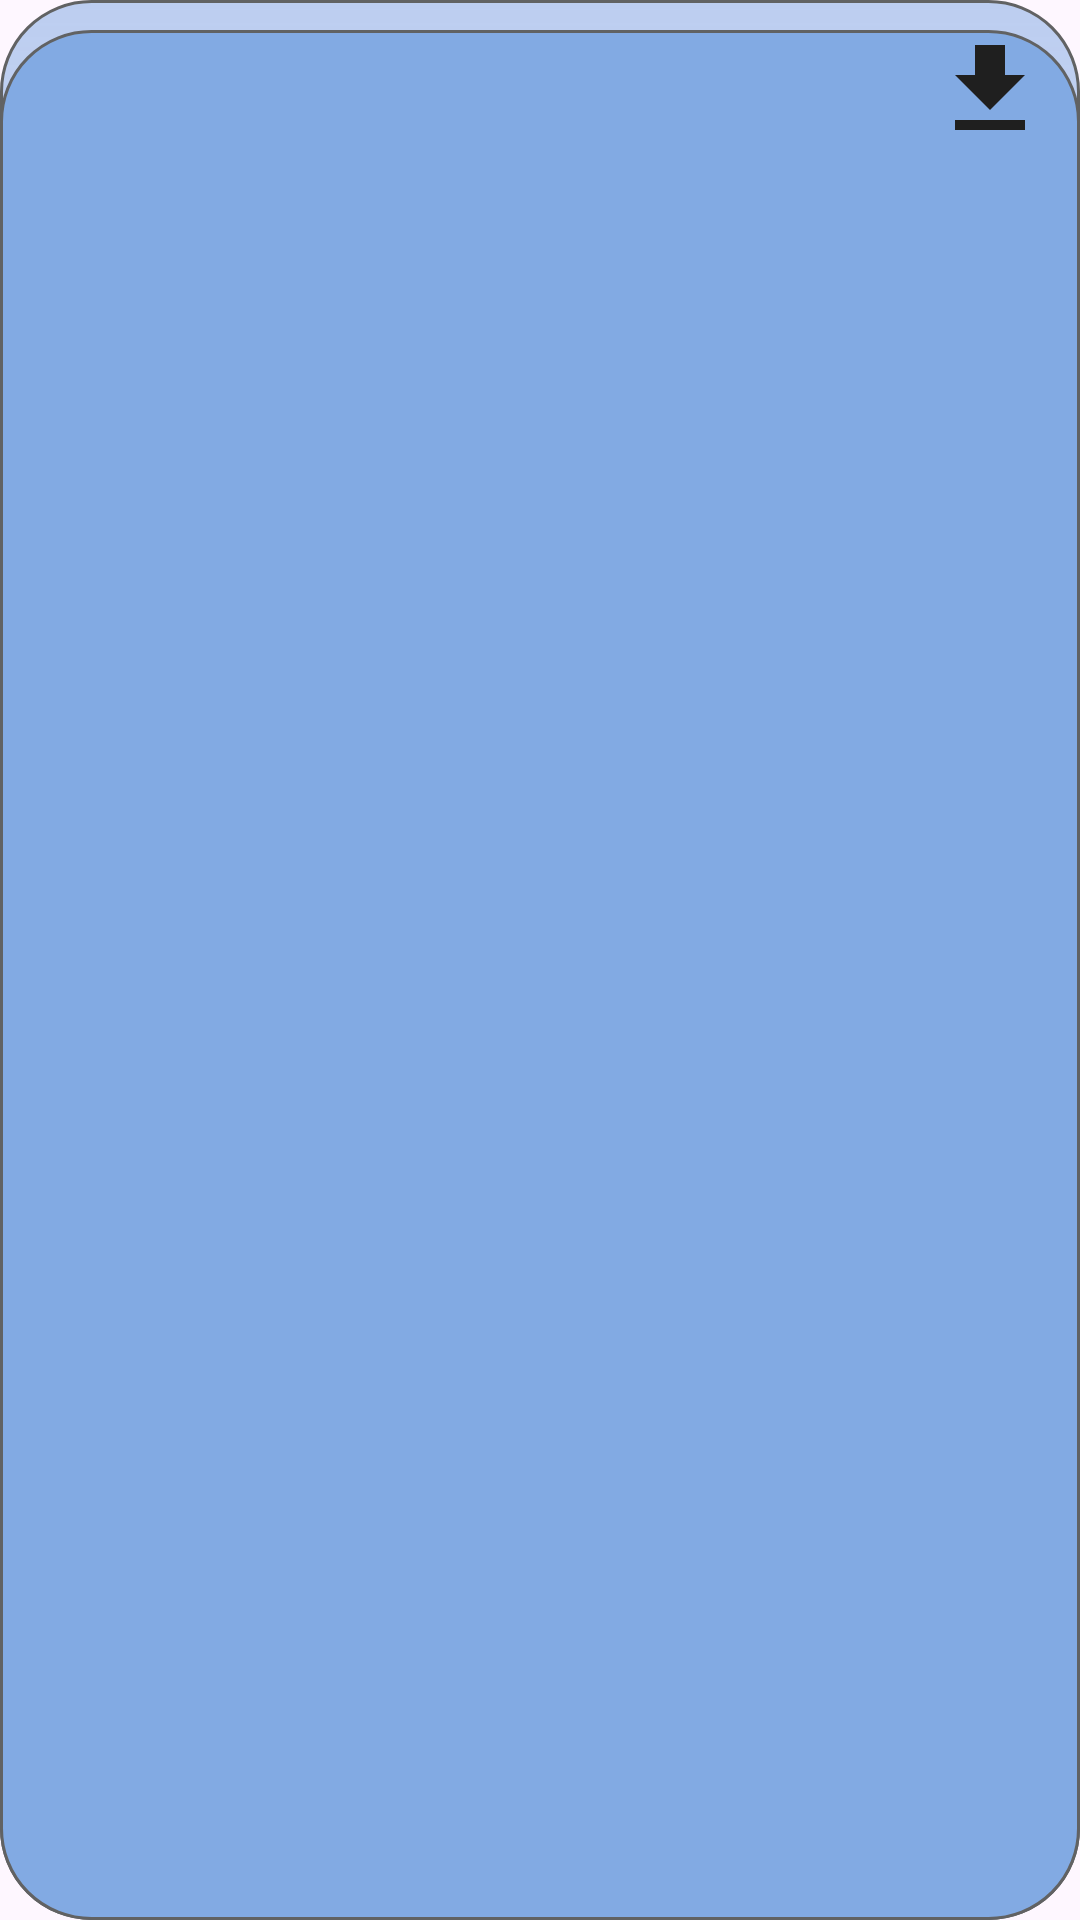

Icon click points for this 1080 × 1920 phone screenshot, format [x,y]:
download: [990,87]
